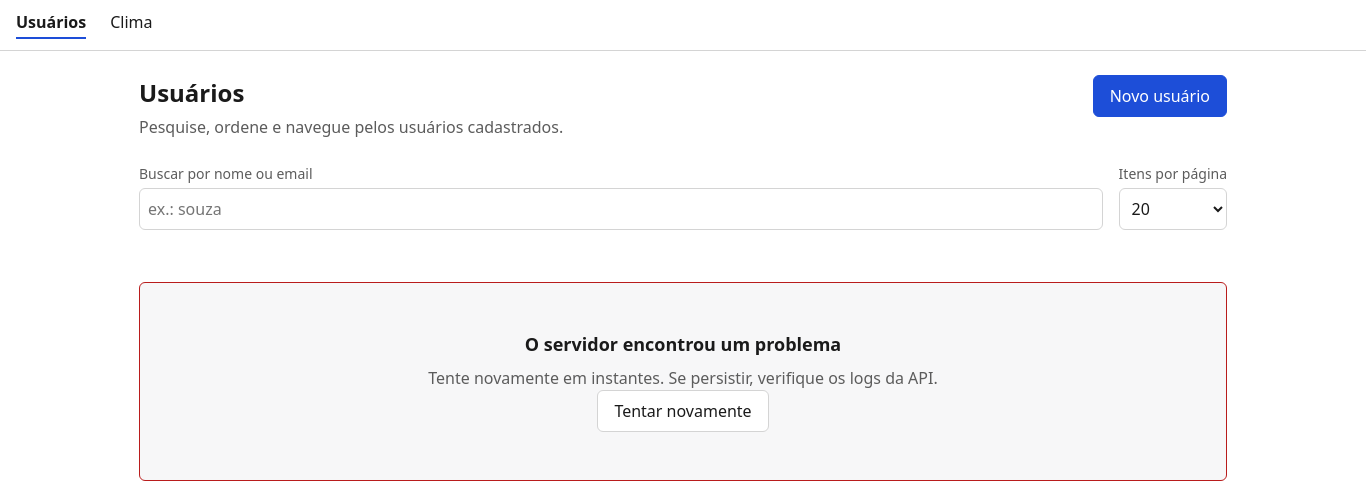
Test case: estado de erro › repetir recupera a tela quando a API volta
expect the message is shown: met, box [139,282,1227,481]
Click the button "Tentar novamente": (683, 411) [597,390,769,432]
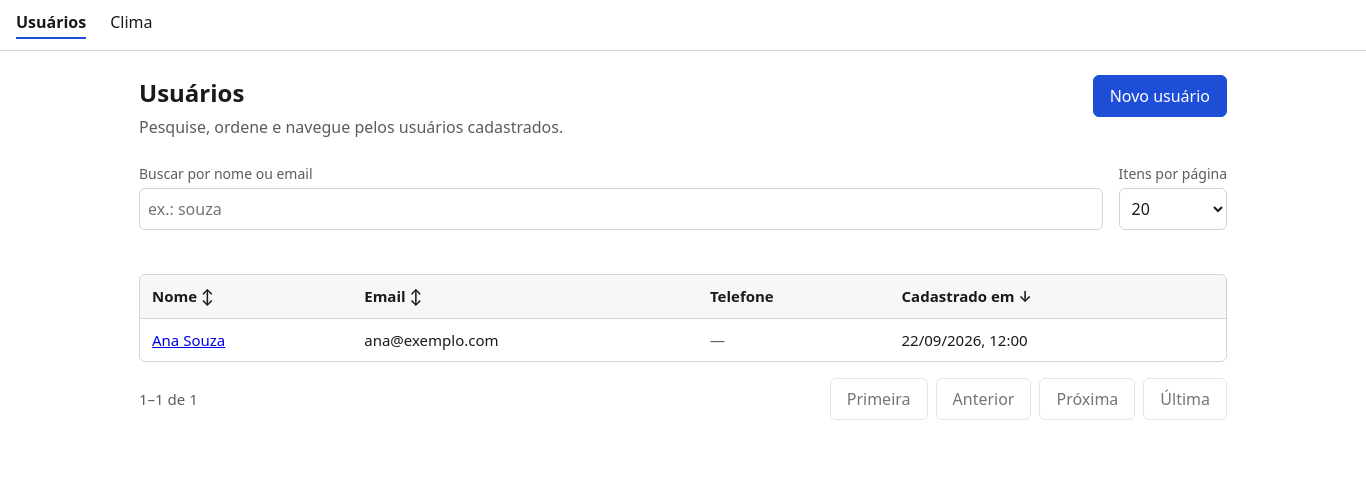
expect the link "Ana Souza" is shown: met, box [152,330,225,350]
